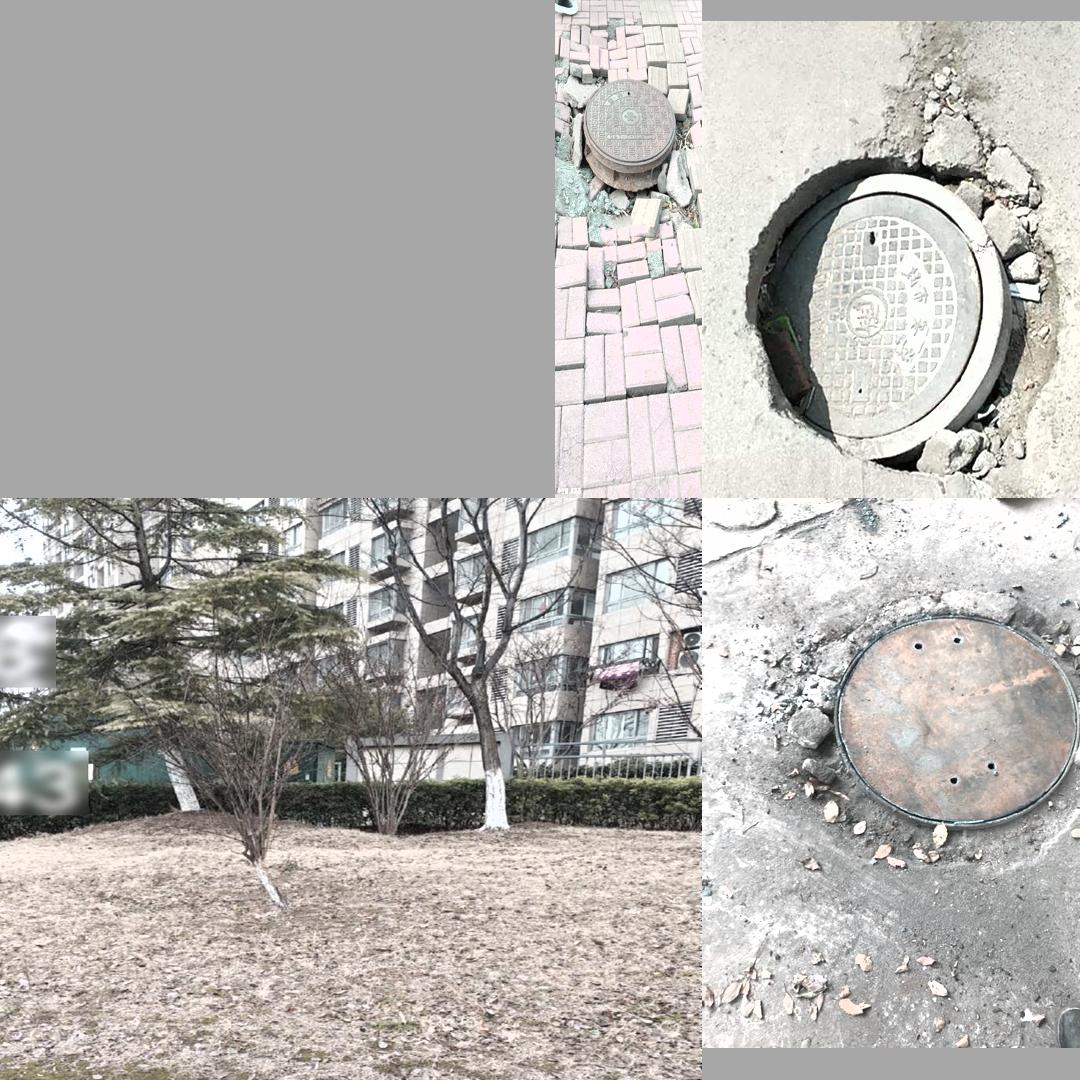circle: (746, 58, 1053, 468), (752, 582, 1080, 886), (556, 31, 698, 295)
